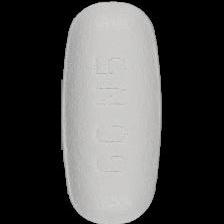0781-1874: (0, 0, 224, 224)
